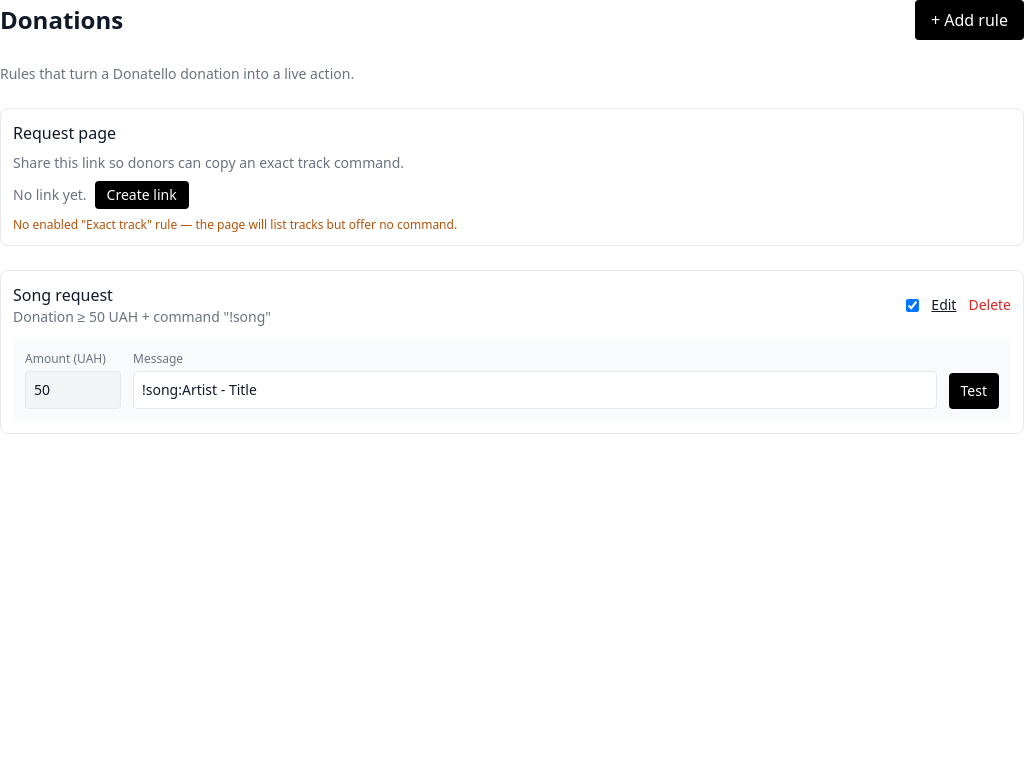
Test: Donations › deletes a rule after confirming
Check: the text "Song request" is shown, box [13, 284, 113, 306]
What coordinates should you click on to do the following:
click the button "Delete"
I would click on:
 (990, 305)
Its box is [968, 295, 1011, 315].
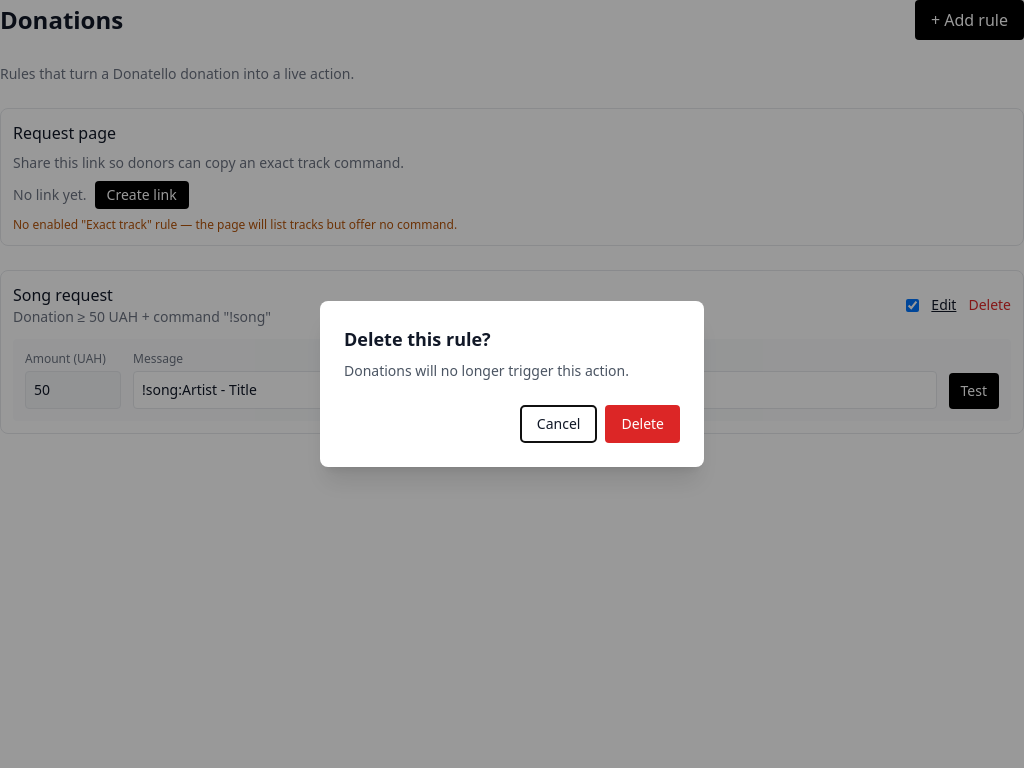
What coordinates should you click on to do the following:
click the button "Delete"
I would click on:
 (643, 424)
Its box is [605, 405, 680, 443].
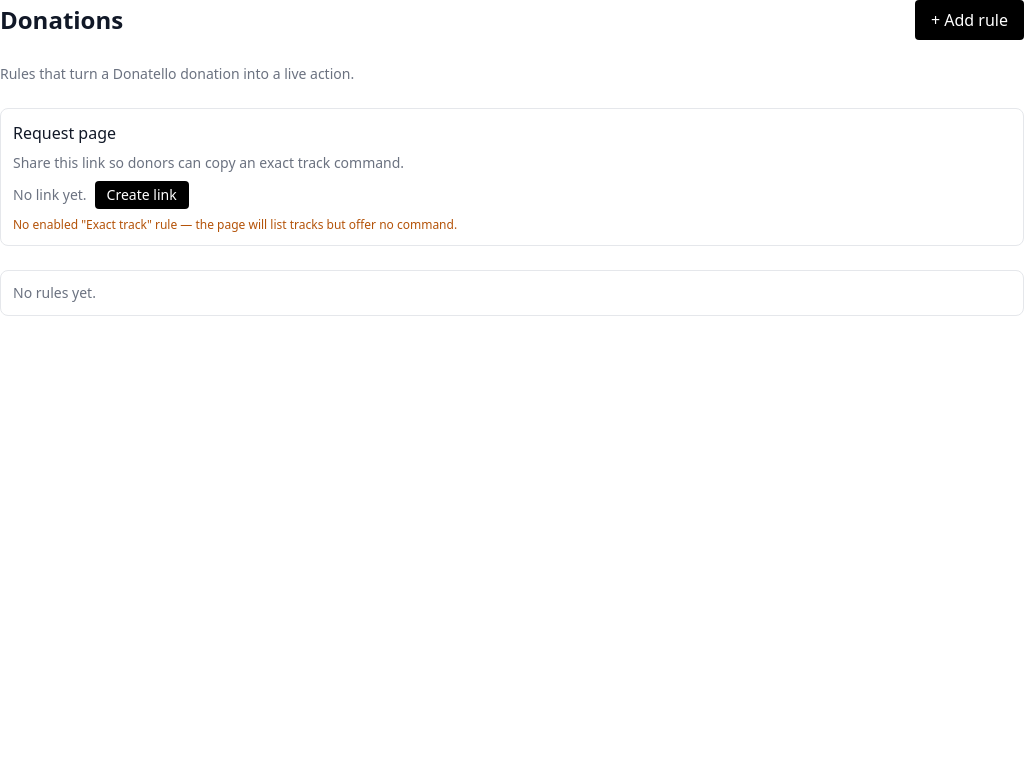
Check: the list item "No rules yet." is shown, box [13, 283, 96, 302]
